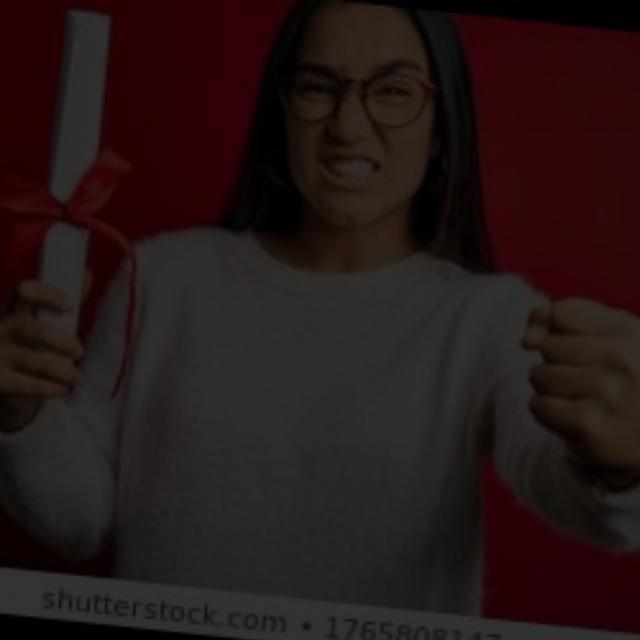Angry: (192, 0, 460, 242)
